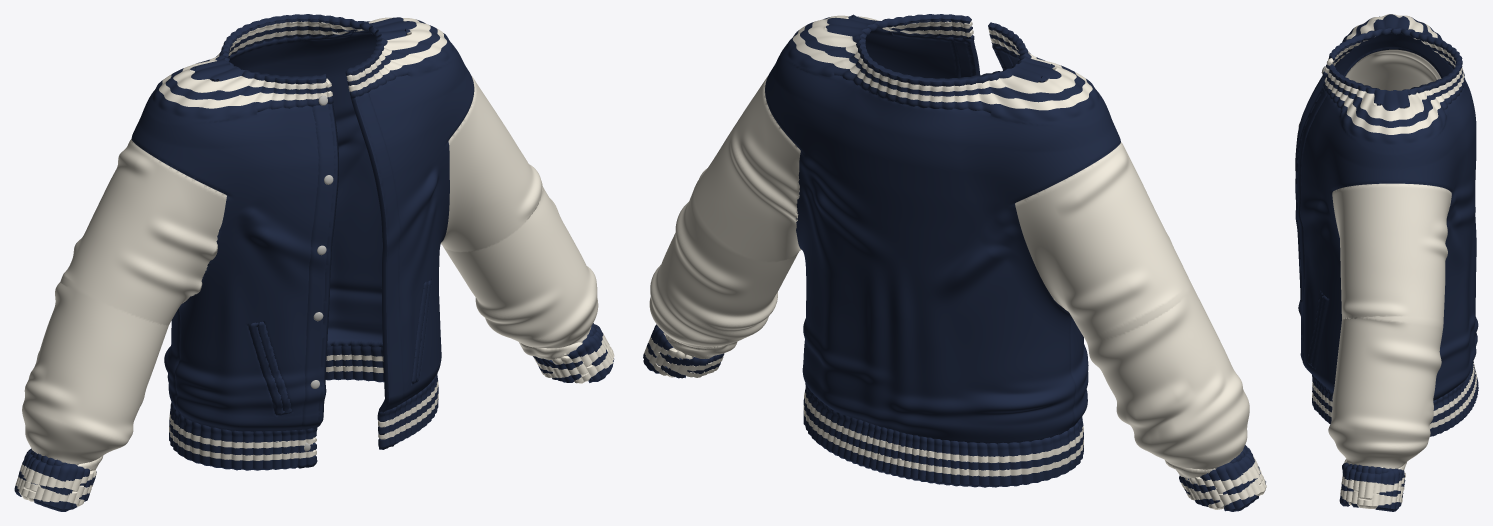
Rendered from 02_chaqueta_varsity_abierta.glb.
3 renders of one model, left to right at view 1: azimuth 30°, elevation 25°; view 2: azimuth 150°, elevation 25°; view 3: azimuth 270°, elevation 25°, orthographic. The views are drawn at different scales.
Parts seen in each view (by area): view 1: body, secondary, trim; view 2: body, secondary, trim; view 3: body, secondary, trim.
Boxes of the visible parts, x1,y1,x2,y2 form: body: (14,14,614,511); secondary: (22,75,598,470); trim: (15,17,614,506); body: (643,14,1265,511); secondary: (649,76,1249,478); trim: (644,15,1266,509); body: (1295,14,1478,511); secondary: (1328,49,1451,470); trim: (1312,14,1476,508).
Bounding box in the file's own units: 1.01 × 0.621 × 0.3103.
